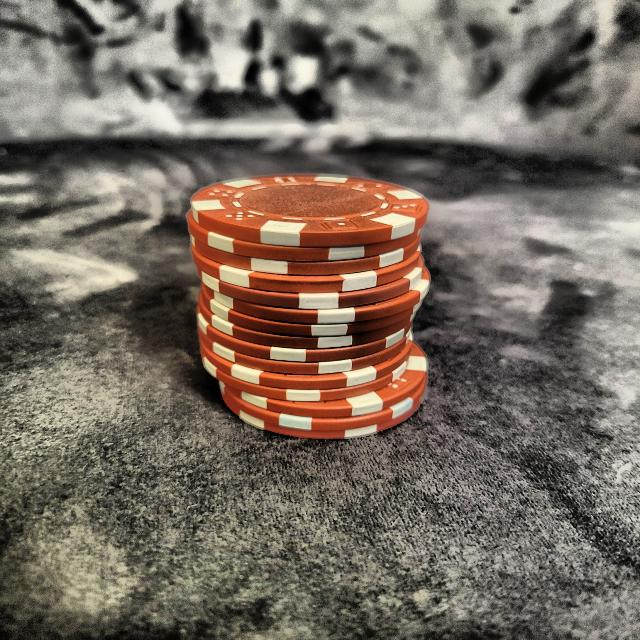Chip: (170, 146, 445, 431)
